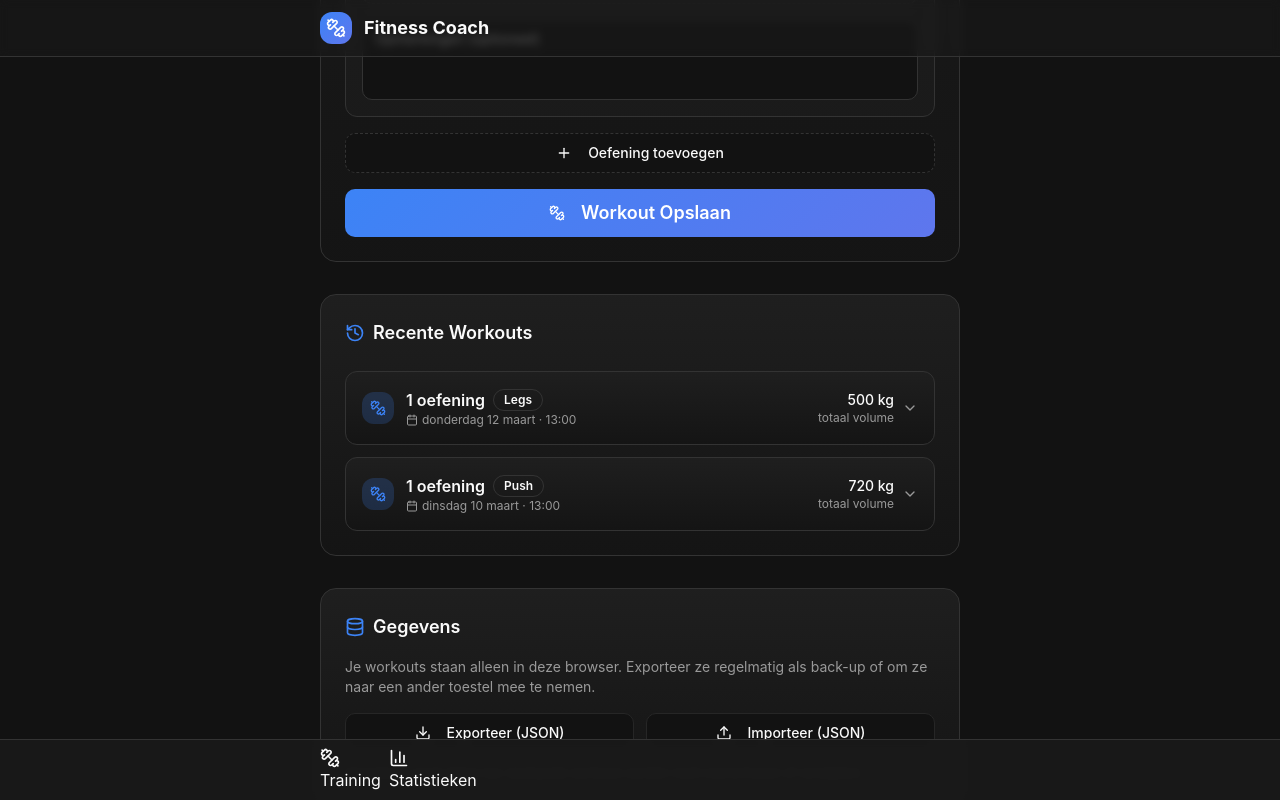
Test: bewerken en verwijderen › bewerken wijzigt dezelfde workout (zelfde id, zelfde moment) en maakt geen nieuwe sessie
This screenshot has width=1280, height=800.
(page scrolled)
Click the text "Legs".
click(518, 400)  # box [493,389,543,411]
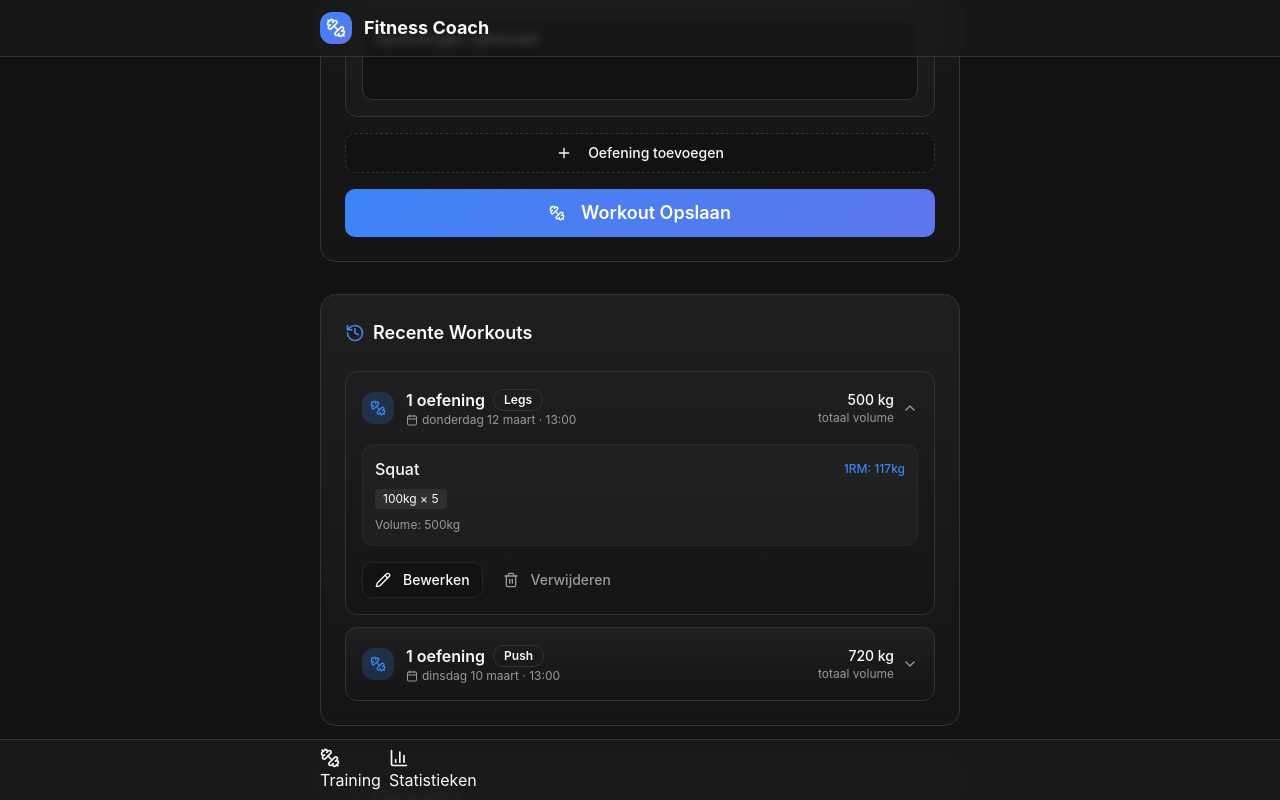
Click the button with aria-label "Workout bewerken".
click(422, 580)  # box [362,562,483,598]
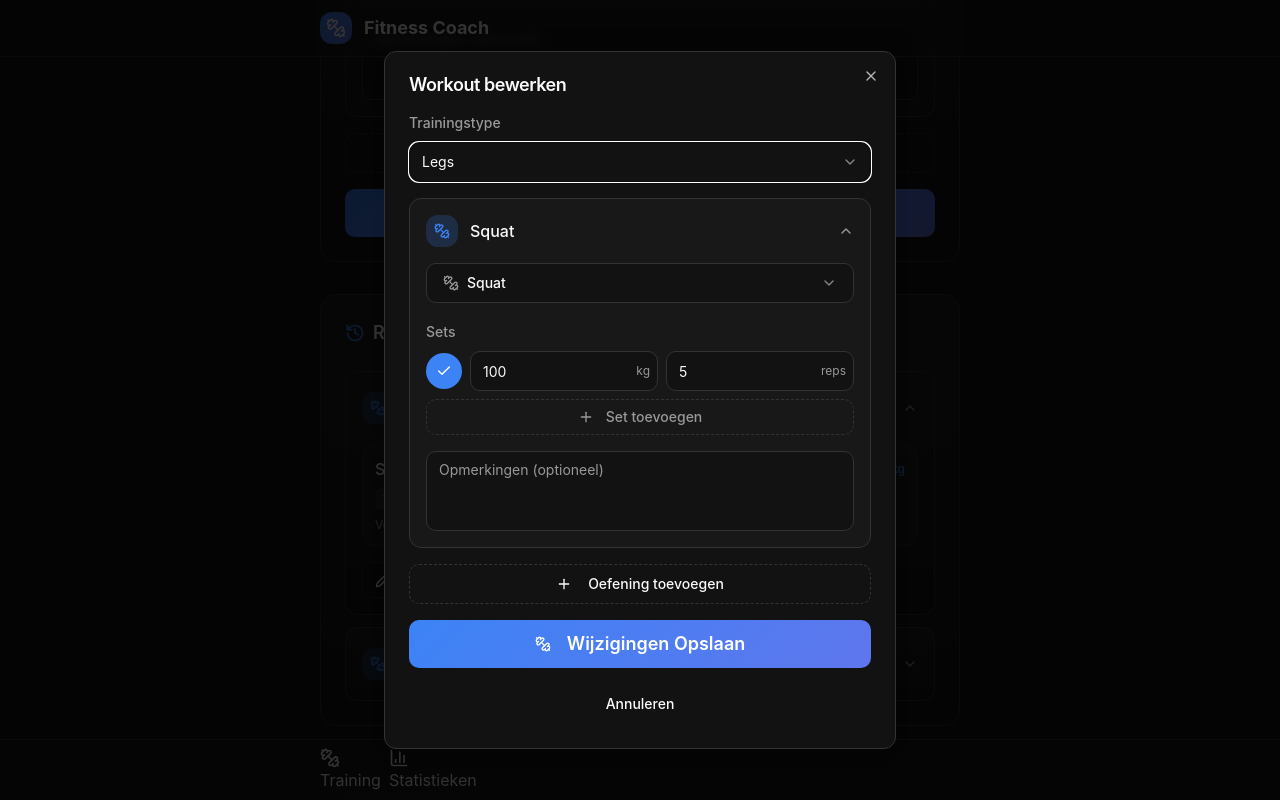
Replace the text in the 2nd number field with placeholder "Reps" with "8" at (760, 371), box [666,351,854,391]
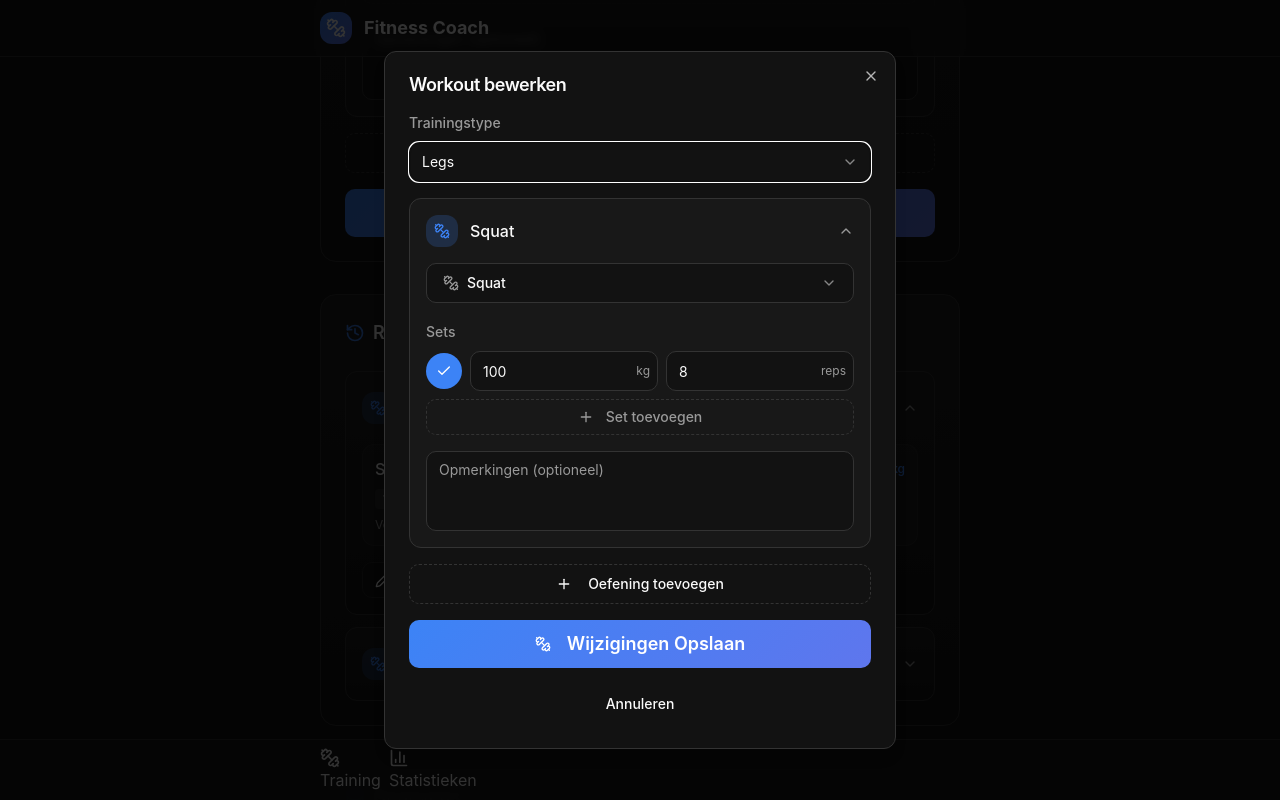
Click the button "Wijzigingen Opslaan".
click(640, 644)  # box [409,620,871,668]
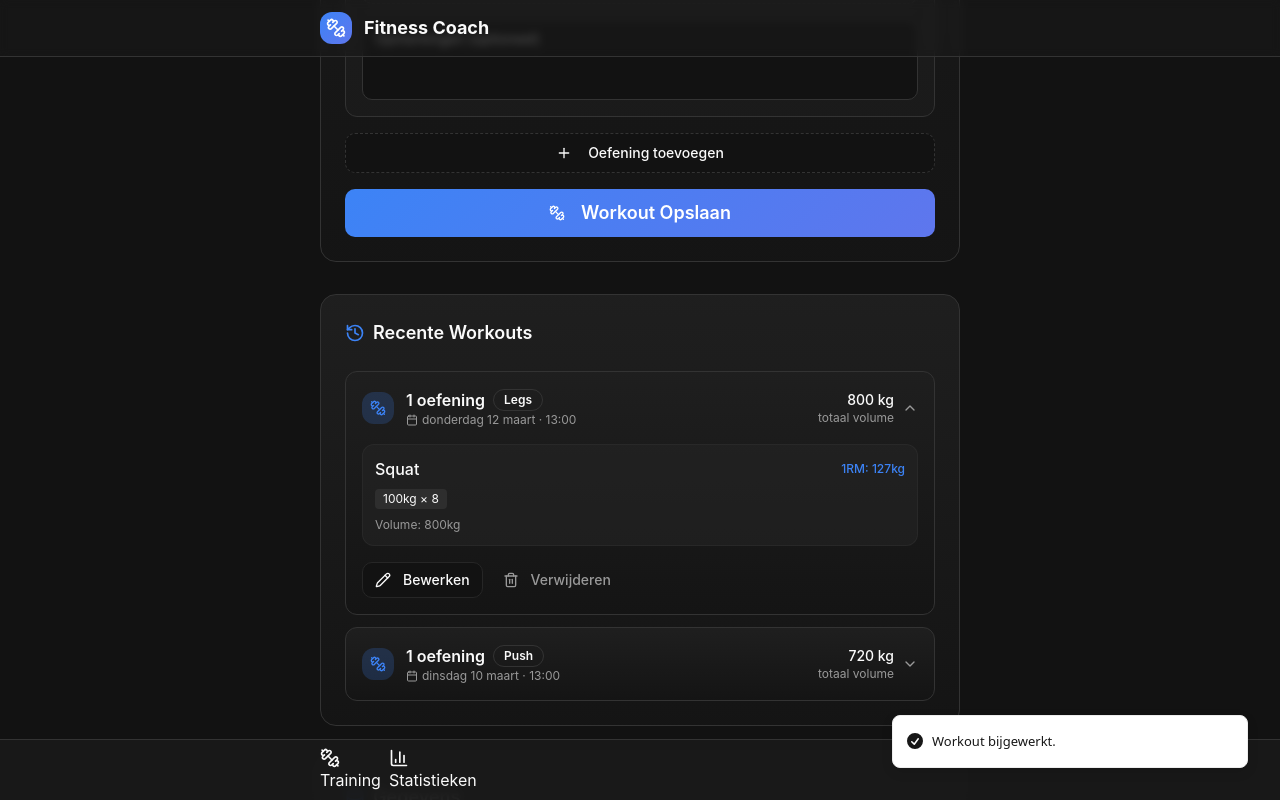
Expected: the dialog is gone
